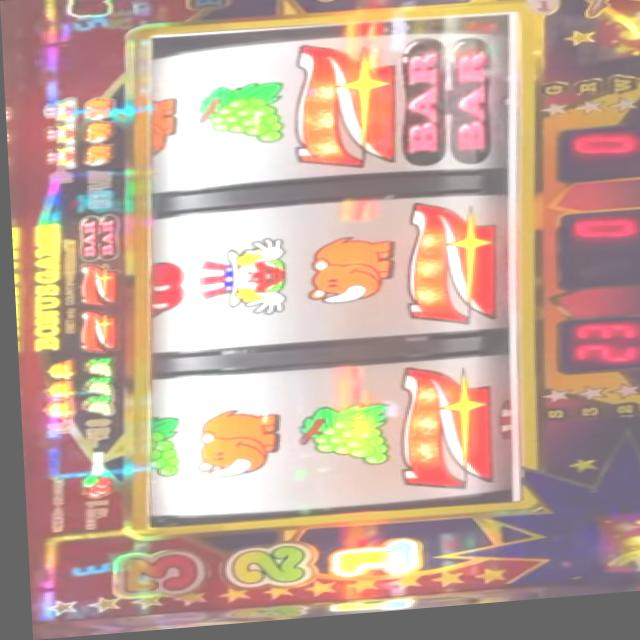bar: (395, 41, 497, 177), (74, 214, 115, 262)
bell: (36, 399, 70, 421), (39, 360, 73, 381), (42, 381, 70, 400)
cherry: (143, 261, 185, 321), (74, 474, 106, 498)
clown: (191, 239, 290, 323), (44, 145, 79, 171), (44, 100, 78, 123), (43, 124, 78, 146)
display: (121, 19, 537, 532)
elephant: (292, 44, 397, 174), (401, 204, 500, 333), (393, 369, 488, 499), (186, 410, 277, 483), (301, 239, 392, 310), (147, 96, 180, 162), (82, 98, 111, 121), (82, 123, 112, 145), (85, 146, 112, 166)
grape: (188, 84, 293, 152), (289, 407, 390, 475), (142, 415, 176, 480), (76, 357, 112, 379), (76, 396, 109, 418), (78, 378, 109, 397)
z: (72, 311, 116, 354), (73, 265, 117, 308)
